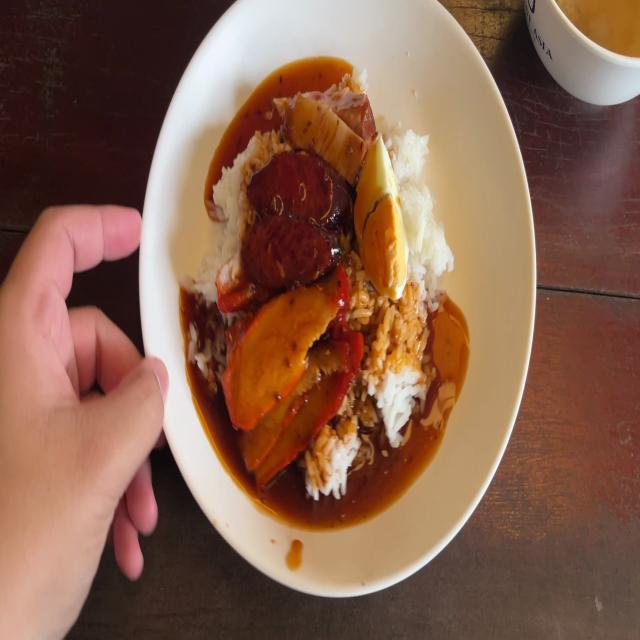red_pork_and_crispy_pork: (360, 142, 404, 286)
stir_fried_basil: (248, 156, 336, 274)
